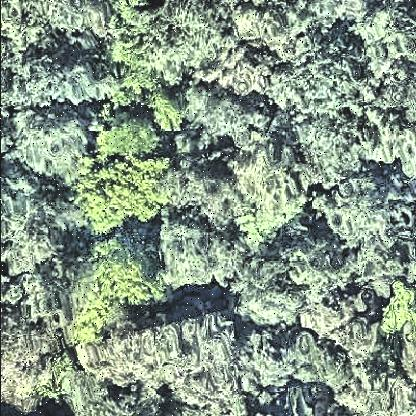tree-top: (69, 231, 165, 347), (80, 149, 172, 239), (232, 144, 315, 241), (157, 313, 239, 409), (1, 321, 73, 414), (152, 228, 246, 294), (248, 336, 353, 395), (110, 1, 174, 93), (1, 193, 67, 279), (10, 109, 91, 179), (23, 48, 113, 109), (301, 112, 375, 186), (322, 178, 398, 246), (235, 260, 308, 330), (177, 87, 257, 141), (96, 109, 164, 160), (383, 276, 416, 336)
